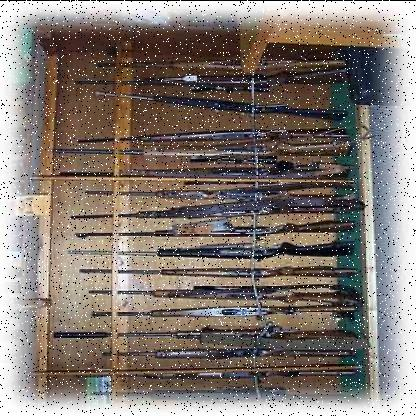rifle: (70, 202, 361, 241), (43, 319, 361, 354), (67, 190, 377, 222), (72, 248, 359, 282), (61, 229, 356, 262), (62, 353, 369, 384), (47, 135, 373, 161), (89, 87, 349, 119), (95, 332, 364, 362), (67, 61, 348, 89), (82, 293, 362, 321), (72, 173, 356, 197), (51, 160, 358, 182), (84, 275, 364, 298), (83, 384, 372, 406), (87, 46, 347, 68), (70, 127, 343, 144)
